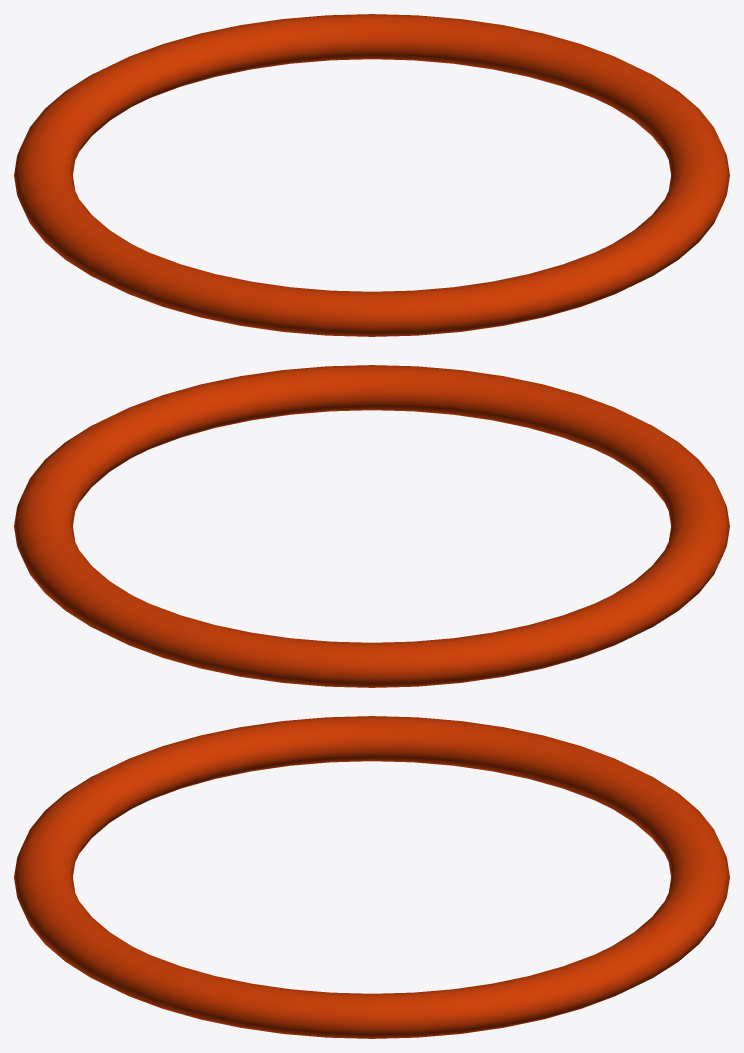
The model's file is Ring.obj.
The picture shows the model from 3 angles, top to bottom: view 1: azimuth 30°, elevation 25°; view 2: azimuth 150°, elevation 25°; view 3: azimuth 270°, elevation 25°; orthographic projection.
Parts seen in each view (by area): view 1: Torus.005; view 2: Torus.005; view 3: Torus.005.
Part boxes in pixels (<box>): Torus.005: <box>14,14,729,336</box>; Torus.005: <box>14,365,729,687</box>; Torus.005: <box>14,716,729,1038</box>.
Size of the model in its own units: 2.18 by 0.1268 by 2.18.
